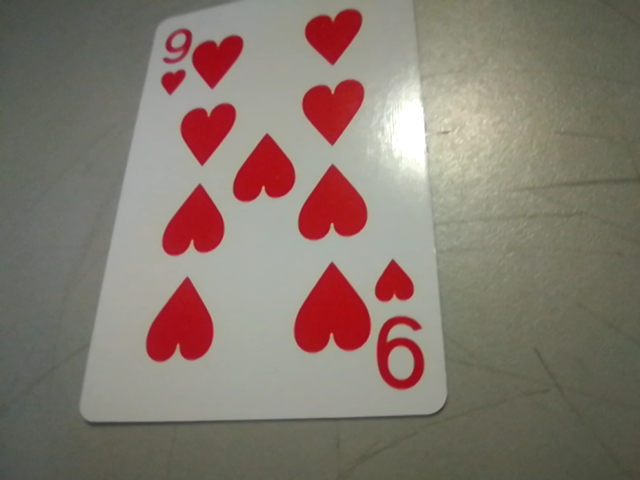hx 9: (366, 251, 437, 402), (142, 25, 192, 94)
